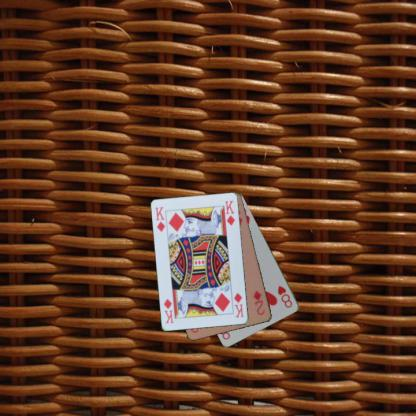2d: (251, 288, 266, 316)
8h: (275, 283, 294, 309)
Kd: (152, 204, 166, 233), (232, 291, 246, 319)
